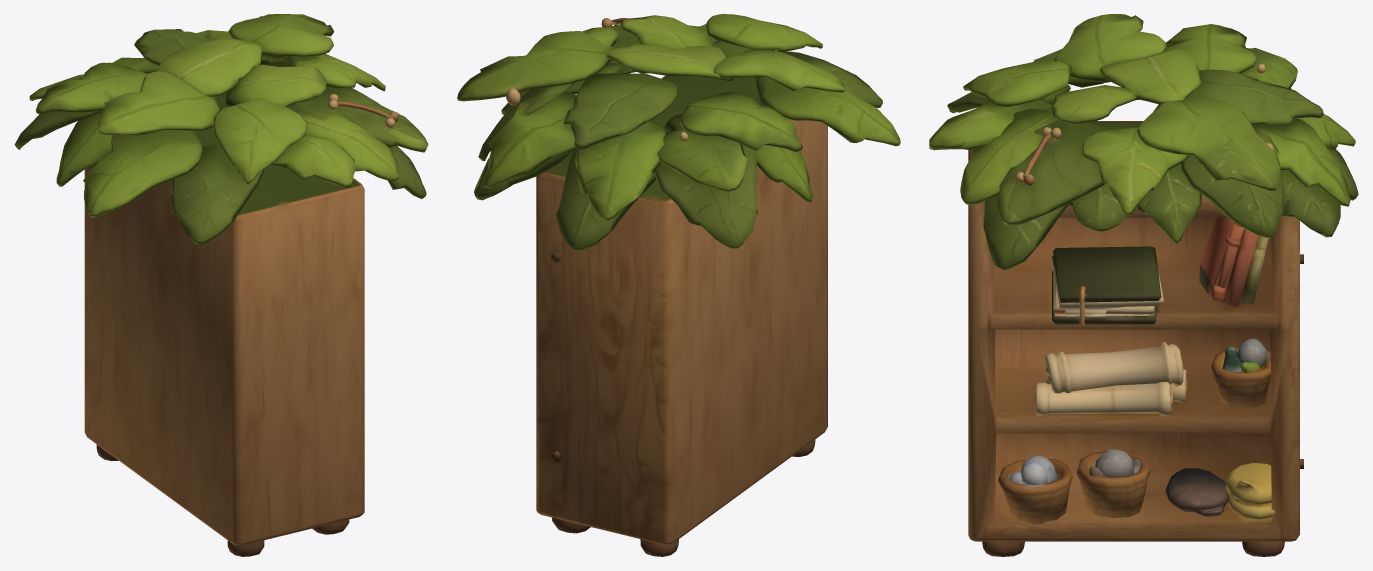
File: record-archive.glb
The picture shows the model from 3 angles, left to right: view 1: azimuth 30°, elevation 25°; view 2: azimuth 150°, elevation 25°; view 3: azimuth 270°, elevation 25°; orthographic projection. The views are drawn at different scales.
Parts seen in each view (by area): view 1: tripo_node_e0e5e7c1-625f-4d39-a0ee-2782362c63ca; view 2: tripo_node_e0e5e7c1-625f-4d39-a0ee-2782362c63ca; view 3: tripo_node_e0e5e7c1-625f-4d39-a0ee-2782362c63ca.
Boxes of the visible parts, box(x1,y1,x2,y2) form: tripo_node_e0e5e7c1-625f-4d39-a0ee-2782362c63ca: box(14, 14, 428, 556); tripo_node_e0e5e7c1-625f-4d39-a0ee-2782362c63ca: box(457, 14, 900, 556); tripo_node_e0e5e7c1-625f-4d39-a0ee-2782362c63ca: box(929, 14, 1358, 556).
Bounding box in the file's own units: 0.8027 × 0.998 × 0.8418.
1 material, 1 textured.
